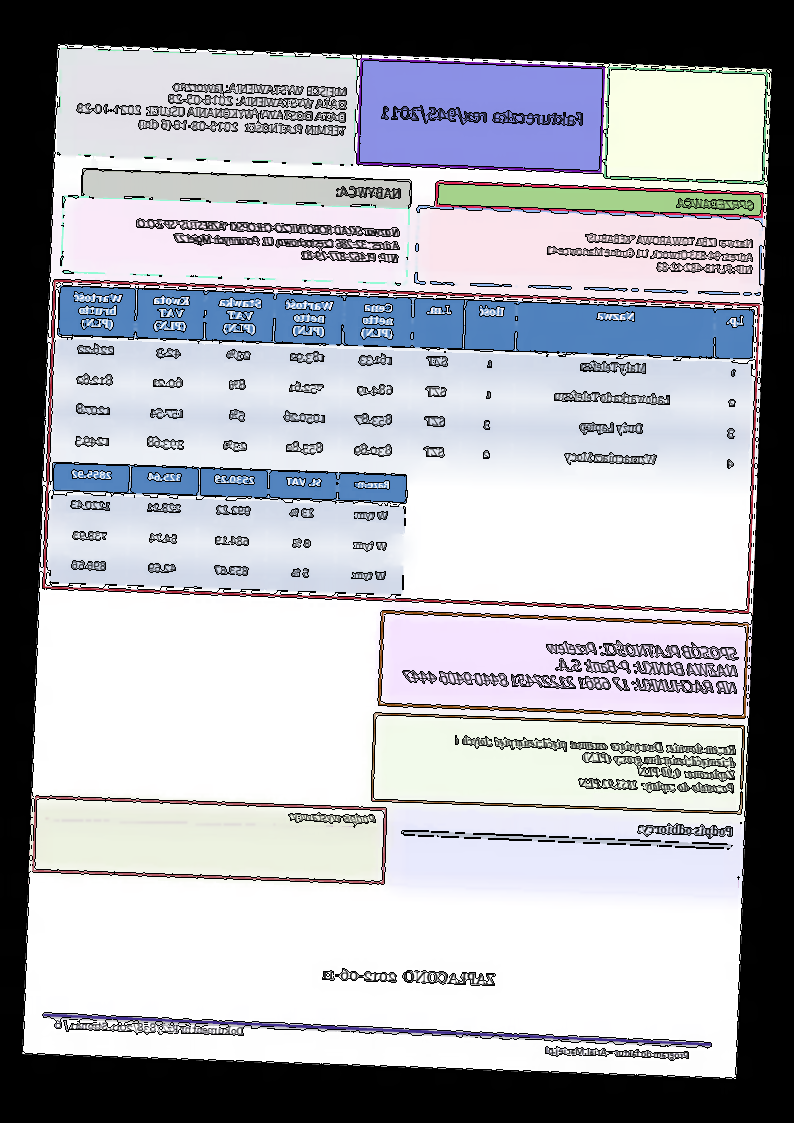Table: (53, 284, 756, 484), (48, 461, 408, 597)
TextBox: (402, 633, 740, 699), (451, 732, 739, 796), (74, 75, 350, 140), (134, 216, 403, 266), (544, 229, 757, 276), (380, 102, 587, 132), (53, 1016, 246, 1041), (320, 965, 500, 989), (544, 1043, 692, 1061), (635, 821, 735, 840), (289, 809, 378, 828), (673, 194, 757, 213), (335, 182, 404, 202)
